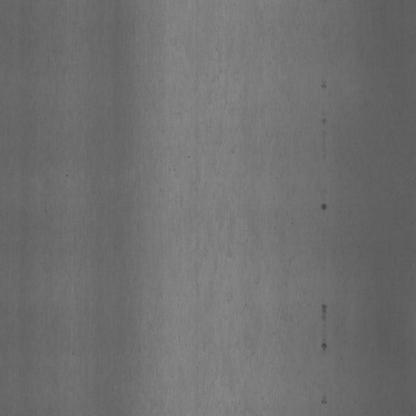oil_spot: (317, 295, 329, 358), (318, 110, 329, 164), (318, 382, 331, 412), (318, 72, 329, 96), (322, 192, 329, 212)
